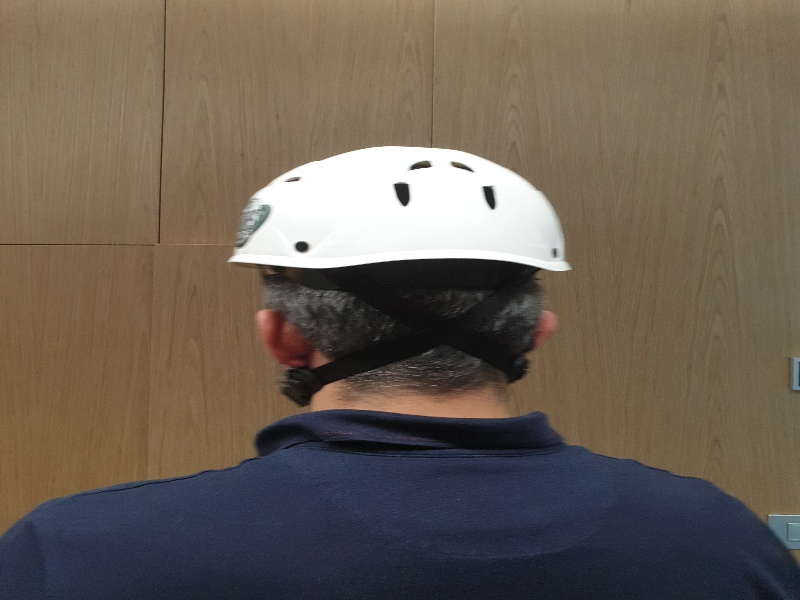Baret: (233, 144, 564, 274)
